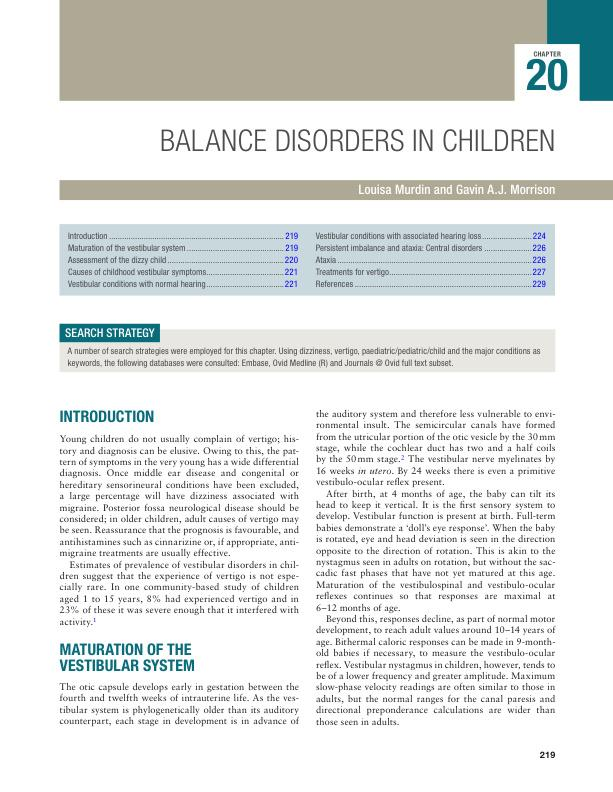chapter-heading: (158, 125, 558, 153)
section-heading: (58, 641, 196, 673), (58, 408, 155, 425)
text: (313, 407, 557, 727), (58, 432, 300, 629), (58, 680, 301, 728)
